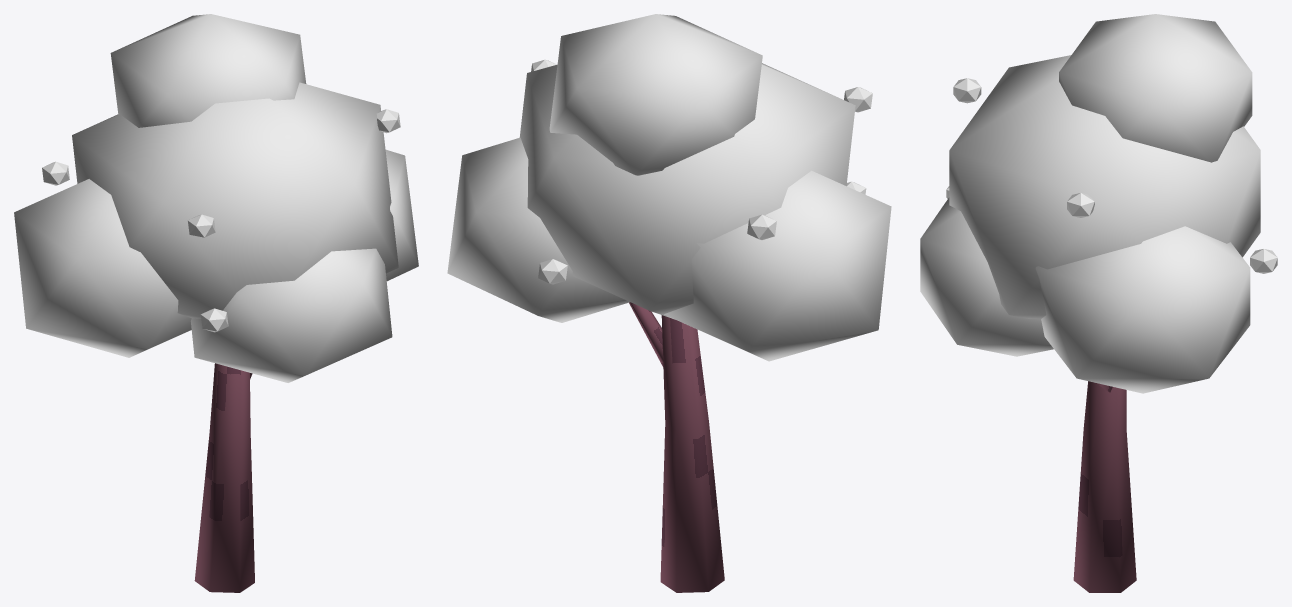
File: Round Tree.fbx
3 views of the same model, side by side, from view 1: azimuth 30°, elevation 25°; view 2: azimuth 150°, elevation 25°; view 3: azimuth 270°, elevation 25° (orthographic). The views are drawn at different scales.
Parts seen in each view (by area): view 1: Round Tree canopy 0, Round Tree canopy 2, Round Tree canopy 3, Round Tree canopy 4, Round Tree trunk, Round Tree canopy 1, Round Tree blossom 3, Round Tree blossom 4, Round Tree blossom 1; view 2: Round Tree canopy 0, Round Tree canopy 2, Round Tree canopy 4, Round Tree canopy 1, Round Tree trunk, Round Tree branch, Round Tree blossom 5, Round Tree blossom 3; view 3: Round Tree canopy 0, Round Tree canopy 1, Round Tree canopy 4, Round Tree trunk, Round Tree canopy 3, Round Tree blossom 4, Round Tree blossom 5, Round Tree blossom 0.
Part boxes in pixels (x1,y1,x2,y2): Round Tree canopy 0: (72, 82, 398, 318); Round Tree canopy 2: (14, 179, 191, 357); Round Tree canopy 3: (190, 248, 392, 382); Round Tree canopy 4: (110, 14, 306, 127); Round Tree trunk: (194, 363, 254, 592); Round Tree canopy 1: (385, 149, 418, 281); Round Tree blossom 3: (42, 161, 69, 185); Round Tree blossom 4: (187, 214, 215, 238); Round Tree blossom 1: (200, 308, 228, 332); Round Tree canopy 0: (519, 63, 855, 319); Round Tree canopy 2: (664, 170, 891, 361); Round Tree canopy 4: (549, 14, 762, 175); Round Tree canopy 1: (447, 137, 629, 322); Round Tree trunk: (660, 315, 724, 592); Round Tree branch: (629, 302, 664, 366); Round Tree blossom 5: (538, 259, 567, 284); Round Tree blossom 3: (747, 214, 776, 239); Round Tree canopy 0: (949, 55, 1260, 318); Round Tree canopy 1: (1035, 226, 1250, 393); Round Tree canopy 4: (1059, 14, 1252, 162); Round Tree trunk: (1073, 381, 1136, 592); Round Tree canopy 3: (920, 197, 1053, 356); Round Tree blossom 4: (953, 78, 981, 103); Round Tree blossom 5: (1250, 249, 1277, 273); Round Tree blossom 0: (1067, 193, 1094, 217).
Bounding box in the file's own units: 3.68 × 5.01 × 2.83.
Materials: 5 (1 with a texture image).
